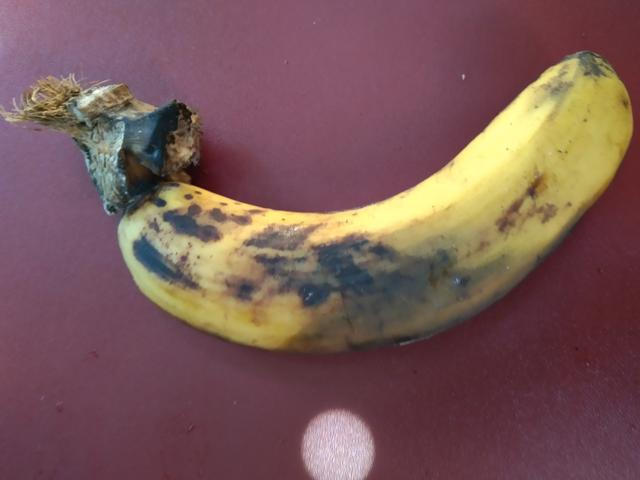overripe: (102, 23, 639, 372)
